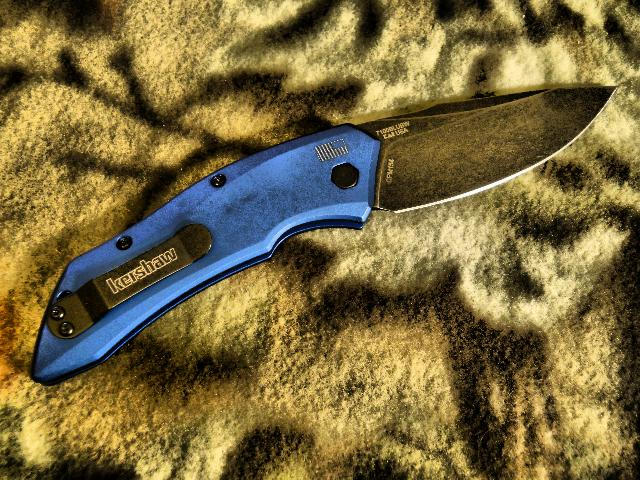knife: (346, 79, 628, 212)
